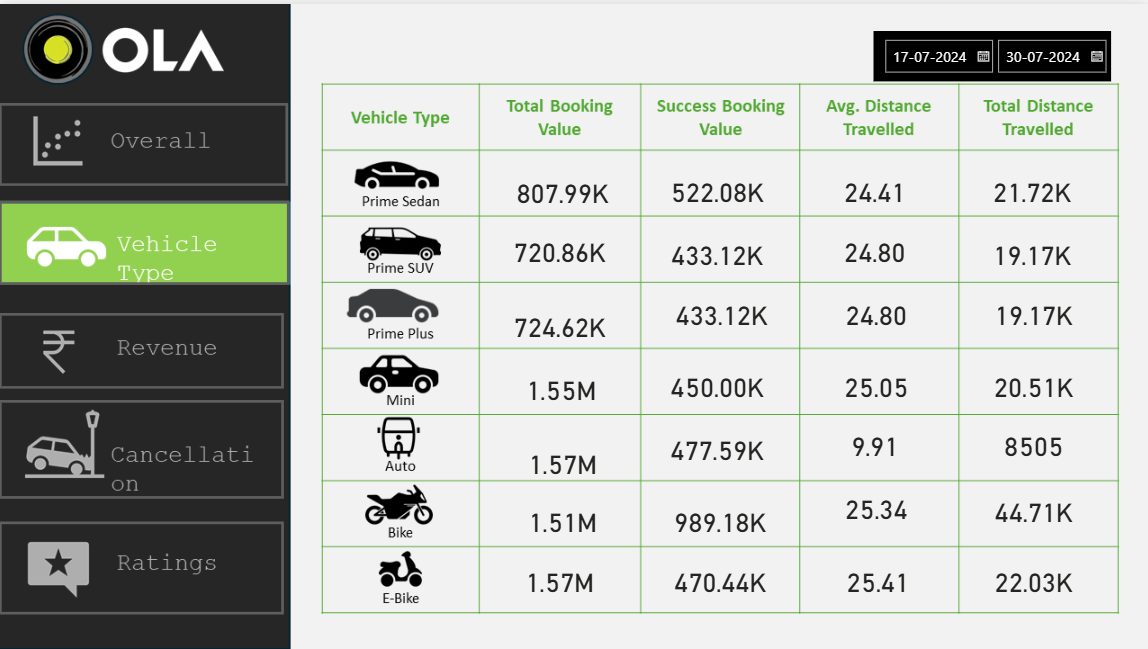

What the dashboard file says about the page in this screenshot:
{"tool":"powerbi","page":{"name":"Vehicle_type","canvas":[1280,720],"ordinal":1},"visuals":[{"type":"actionButton","box":[0,217.9,322.9,93.8],"z":0},{"type":"actionButton","box":[0,575.8,316.5,103.4],"z":1000},{"type":"card","fields":{"Values":["Sum(July.Booking_Value)"]},"box":[536.7,608.5,172,66.1],"z":2000},{"type":"card","fields":{"Values":["Sum(July.Booking_Value)"]},"box":[536.7,241.9,172,66.1],"z":3000},{"type":"card","fields":{"Values":["Sum(July.Booking_Value)"]},"box":[536.7,325,172,66.1],"z":4000},{"type":"card","fields":{"Values":["Sum(July.Booking_Value)"]},"box":[540.8,175,171.8,66.8],"z":5000},{"type":"card","fields":{"Values":["Sum(July.Booking_Value)"]},"box":[540.5,542.4,172,66.1],"z":6000},{"type":"card","fields":{"Values":["Sum(July.Booking_Value)"]},"box":[540.5,476.2,172,66.1],"z":7000},{"type":"card","fields":{"Values":["Sum(July.Booking_Value)"]},"box":[538.6,395,172,66.1],"z":8000},{"type":"card","fields":{"Values":["Sum(July.Booking_Value)"]},"box":[712.4,175.7,172,66.1],"z":9000},{"type":"card","fields":{"Values":["Sum(July.Booking_Value)"]},"box":[712.4,245.7,172,66.1],"z":10000},{"type":"card","fields":{"Values":["Sum(July.Booking_Value)"]},"box":[716.2,311.8,172,66.1],"z":11000},{"type":"card","fields":{"Values":["Sum(July.Booking_Value)"]},"box":[712.4,391.2,172,66.1],"z":12000},{"type":"card","fields":{"Values":["Sum(July.Booking_Value)"]},"box":[712.4,461.1,172,66.1],"z":13000},{"type":"card","fields":{"Values":["Sum(July.Booking_Value)"]},"box":[714.3,542.4,172,66.1],"z":14000},{"type":"card","fields":{"Values":["Sum(July.Booking_Value)"]},"box":[714.3,608.5,172,66.1],"z":15000},{"type":"card","fields":{"Values":["Avg(July.Ride_Distance)"]},"box":[886.3,175.7,172,66.1],"z":16000},{"type":"card","fields":{"Values":["Avg(July.Ride_Distance)"]},"box":[886.3,241.9,172,66.1],"z":17000},{"type":"card","fields":{"Values":["Avg(July.Ride_Distance)"]},"box":[888.2,311.8,172,66.1],"z":18000},{"type":"card","fields":{"Values":["Avg(July.Ride_Distance)"]},"box":[888.2,391.2,172,66.1],"z":19000},{"type":"card","fields":{"Values":["Avg(July.Ride_Distance)"]},"box":[886.3,457.3,172,66.1],"z":20000},{"type":"card","fields":{"Values":["Avg(July.Ride_Distance)"]},"box":[888.2,527.2,172,66.1],"z":21000},{"type":"card","fields":{"Values":["Avg(July.Ride_Distance)"]},"box":[890.1,608.5,172,66.1],"z":22000},{"type":"card","fields":{"Values":["Sum(July.Ride_Distance)"]},"box":[1062.1,175.7,172,66.1],"z":23000},{"type":"card","fields":{"Values":["Sum(July.Ride_Distance)"]},"box":[1062.1,245.7,172,66.1],"z":24000},{"type":"card","fields":{"Values":["Sum(July.Ride_Distance)"]},"box":[1063.9,311.8,172,66.1],"z":25000},{"type":"card","fields":{"Values":["Sum(July.Ride_Distance)"]},"box":[1063.9,391.2,172,66.1],"z":26000},{"type":"card","fields":{"Values":["Sum(July.Ride_Distance)"]},"box":[1063.9,457.3,172,66.1],"z":27000},{"type":"card","fields":{"Values":["Sum(July.Ride_Distance)"]},"box":[1063.9,532.9,172,60.5],"z":28000},{"type":"card","fields":{"Values":["Sum(July.Ride_Distance)"]},"box":[1063.9,608.5,172,66.1],"z":29000},{"type":"slicer","title":"Date","fields":{"Values":["July.Date"]},"box":[971.9,30.2,264,55.7],"z":30000},{"type":"actionButton","box":[0,217.9,326.1,90.7],"z":31000},{"type":"actionButton","box":[0,440.6,316.5,109.8],"z":32000},{"type":"actionButton","box":[0,343.6,316.5,84.3],"z":33000},{"type":"actionButton","box":[0,109.8,321.3,92.3],"z":34000}]}

Visuals, with their boxes on the page's 1280x720 design canvas (x1, y1, x2, y2). These are canvas units, not pixel positions in the 1148x649 screenshot, which may show the page scaled, cropped or inside an application window:
actionButton: (0,218,323,312)
actionButton: (0,576,316,679)
card - Sum(July.Booking_Value): (537,608,709,675)
card - Sum(July.Booking_Value): (537,242,709,308)
card - Sum(July.Booking_Value): (537,325,709,391)
card - Sum(July.Booking_Value): (541,175,713,242)
card - Sum(July.Booking_Value): (540,542,712,608)
card - Sum(July.Booking_Value): (540,476,712,542)
card - Sum(July.Booking_Value): (539,395,711,461)
card - Sum(July.Booking_Value): (712,176,884,242)
card - Sum(July.Booking_Value): (712,246,884,312)
card - Sum(July.Booking_Value): (716,312,888,378)
card - Sum(July.Booking_Value): (712,391,884,457)
card - Sum(July.Booking_Value): (712,461,884,527)
card - Sum(July.Booking_Value): (714,542,886,608)
card - Sum(July.Booking_Value): (714,608,886,675)
card - Avg(July.Ride_Distance): (886,176,1058,242)
card - Avg(July.Ride_Distance): (886,242,1058,308)
card - Avg(July.Ride_Distance): (888,312,1060,378)
card - Avg(July.Ride_Distance): (888,391,1060,457)
card - Avg(July.Ride_Distance): (886,457,1058,523)
card - Avg(July.Ride_Distance): (888,527,1060,593)
card - Avg(July.Ride_Distance): (890,608,1062,675)
card - Sum(July.Ride_Distance): (1062,176,1234,242)
card - Sum(July.Ride_Distance): (1062,246,1234,312)
card - Sum(July.Ride_Distance): (1064,312,1236,378)
card - Sum(July.Ride_Distance): (1064,391,1236,457)
card - Sum(July.Ride_Distance): (1064,457,1236,523)
card - Sum(July.Ride_Distance): (1064,533,1236,593)
card - Sum(July.Ride_Distance): (1064,608,1236,675)
"Date" slicer: (972,30,1236,86)
actionButton: (0,218,326,309)
actionButton: (0,441,316,550)
actionButton: (0,344,316,428)
actionButton: (0,110,321,202)
